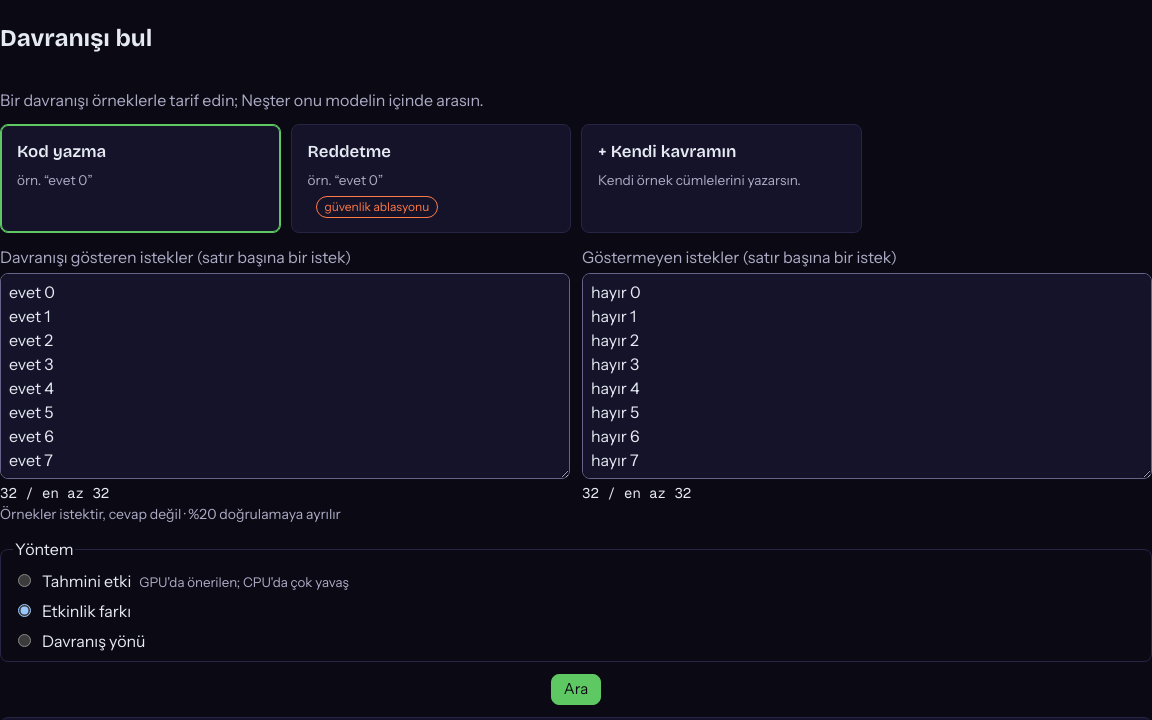
Test: the result lists the found heads before the layer chart and explains the zero scores in one sentence
Click the button "Ara". click: (576, 690)
box: 551,674 -> 601,705
(page scrolled)
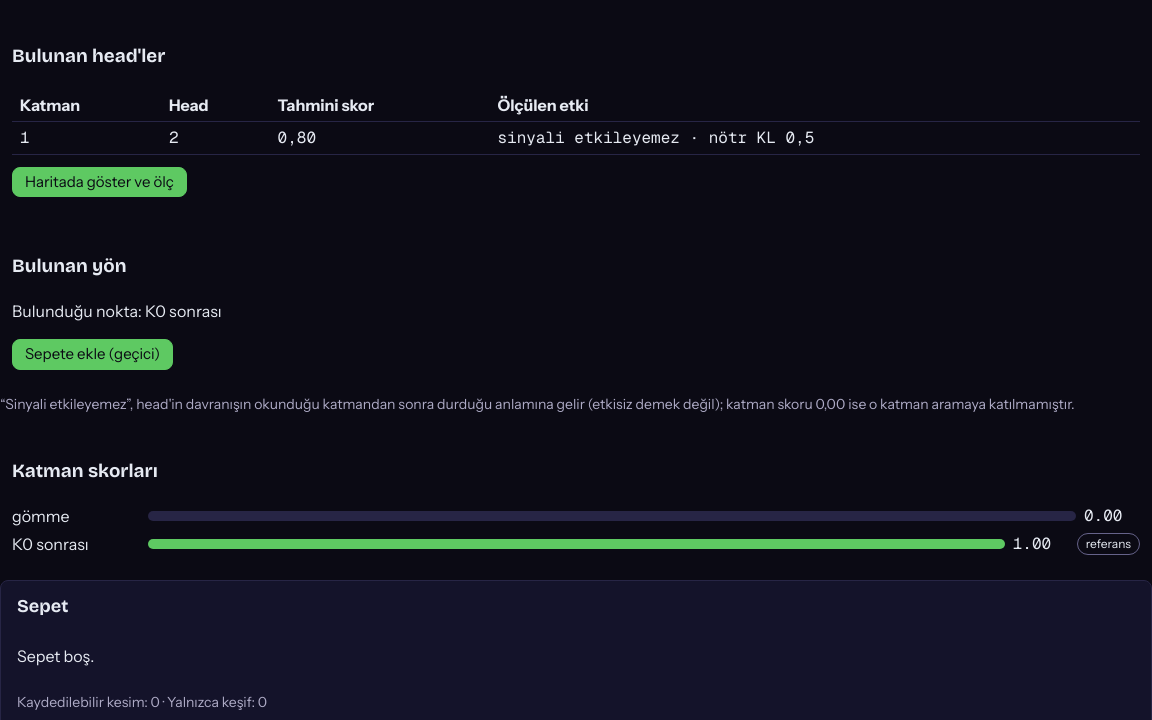
Result: the column heading "Katman" is shown at 12,89 -> 161,121
Result: the text "Sinyali etkileyemez”, head'in davranışın okunduğu katmandan sonra" is shown at 0,395 -> 1075,413
